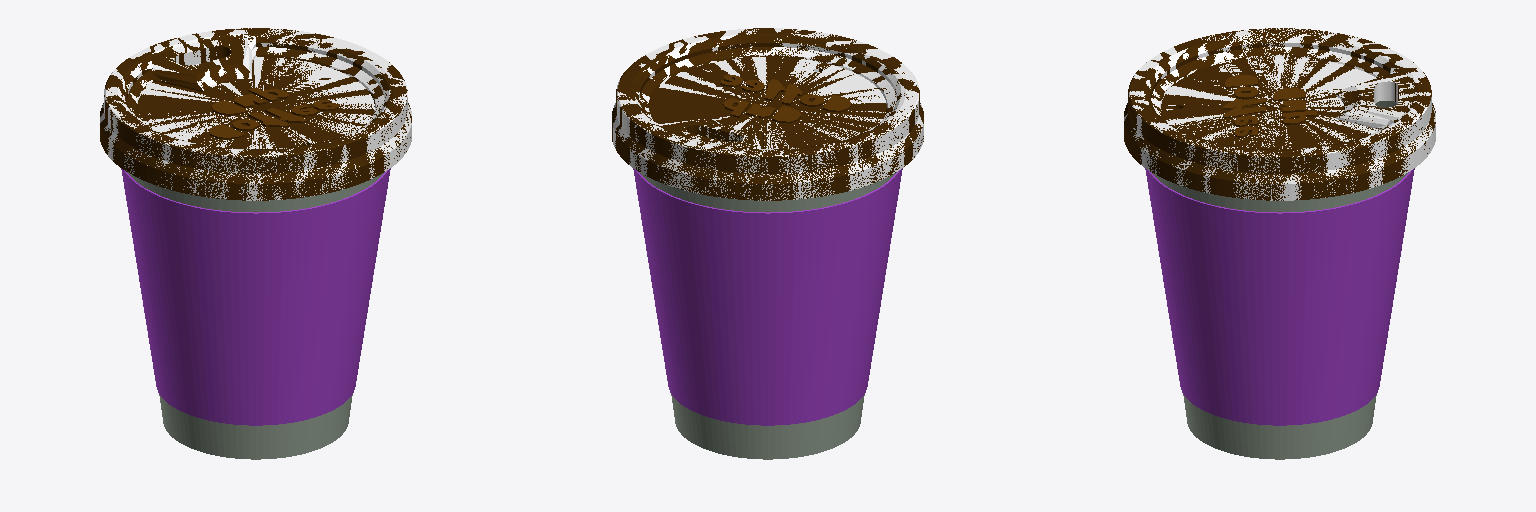
Rendered from Coffee Cup.obj.
3 renders of one model, left to right at view 1: azimuth 30°, elevation 25°; view 2: azimuth 150°, elevation 25°; view 3: azimuth 270°, elevation 25°, orthographic.
Parts seen in each view (by area): view 1: 2, 1, Boole; view 2: 2, 1, Boole; view 3: 2, 1, Boole.
Boxes of the visible parts, x1,y1,x2,y2 form: 2: [121, 168, 390, 459]; 1: [100, 28, 411, 200]; Boole: [100, 28, 411, 200]; 2: [633, 168, 902, 459]; 1: [612, 28, 923, 200]; Boole: [613, 28, 923, 200]; 2: [1145, 101, 1414, 459]; 1: [1124, 28, 1435, 200]; Boole: [1124, 28, 1435, 200].
Bounding box in the file's own units: 151 × 175 × 151.